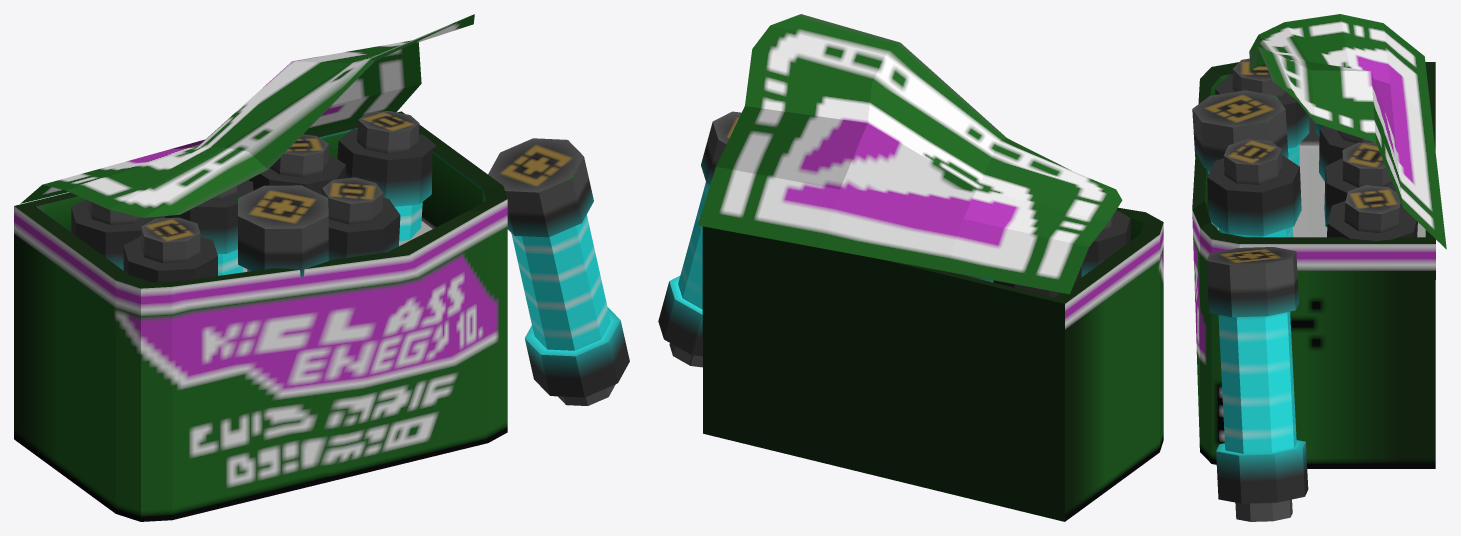
File: ShotgunPatrons.fbx
3 renders of one model, left to right at view 1: azimuth 30°, elevation 25°; view 2: azimuth 150°, elevation 25°; view 3: azimuth 270°, elevation 25°, orthographic. The views are drawn at different scales.
Parts seen in each view (by area): view 1: Куб.130; view 2: Куб.130; view 3: Куб.130.
Part boxes in pixels (box(x1,y1,x2,y2)): Куб.130: box(14, 14, 629, 521); Куб.130: box(658, 14, 1163, 521); Куб.130: box(1192, 14, 1446, 521).
Bounding box in the file's own units: 41.6 × 30.86 × 18.4.
Materials: 1 (1 with a texture image).
